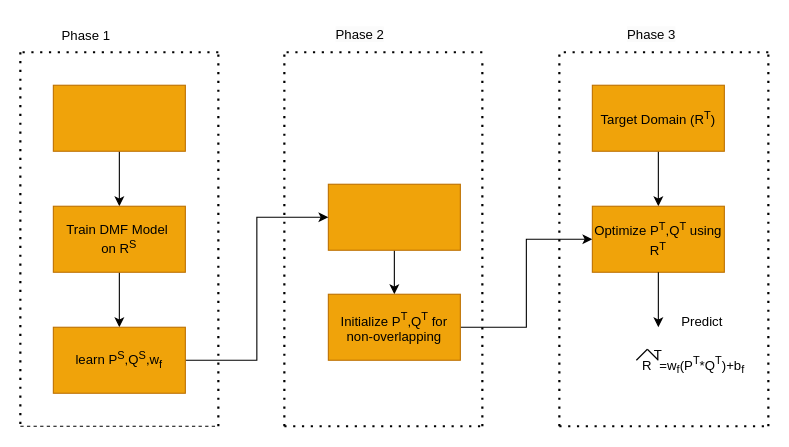
This 789x447 diagram has some shape labels left out. Here are the shapes that lost their labels. From the top down, the centre of each, then its label:
(118,117): Source Domain(R S )
(393,216): Transfer P S ,Q S ,w f
